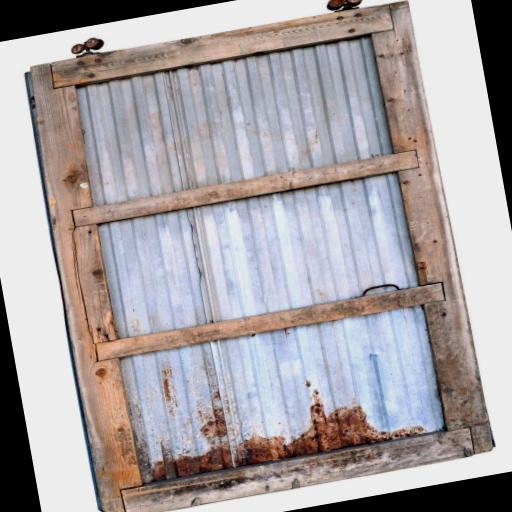segmentation: (149, 391, 426, 481), (200, 407, 226, 438)
